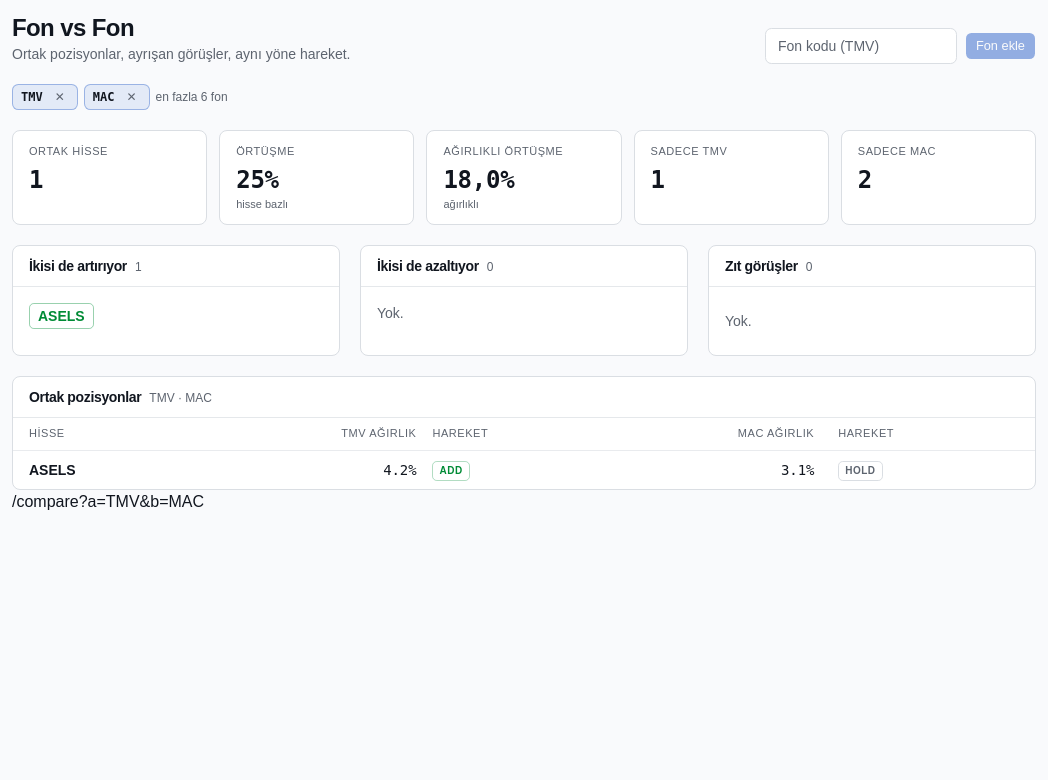
Test: ComparePage › adding a fund by code extends the URL set and switches to the overlap query; removing one goes back to the pair
This screenshot has width=1048, height=780.
Expected: the heading "Ortak pozisyonlar" is shown, [29,387,141,407]
Type "abc" into the dropdown named "Fon ekle".
click(861, 46); type("abc")  # box [765,28,957,64]
Then press Enter
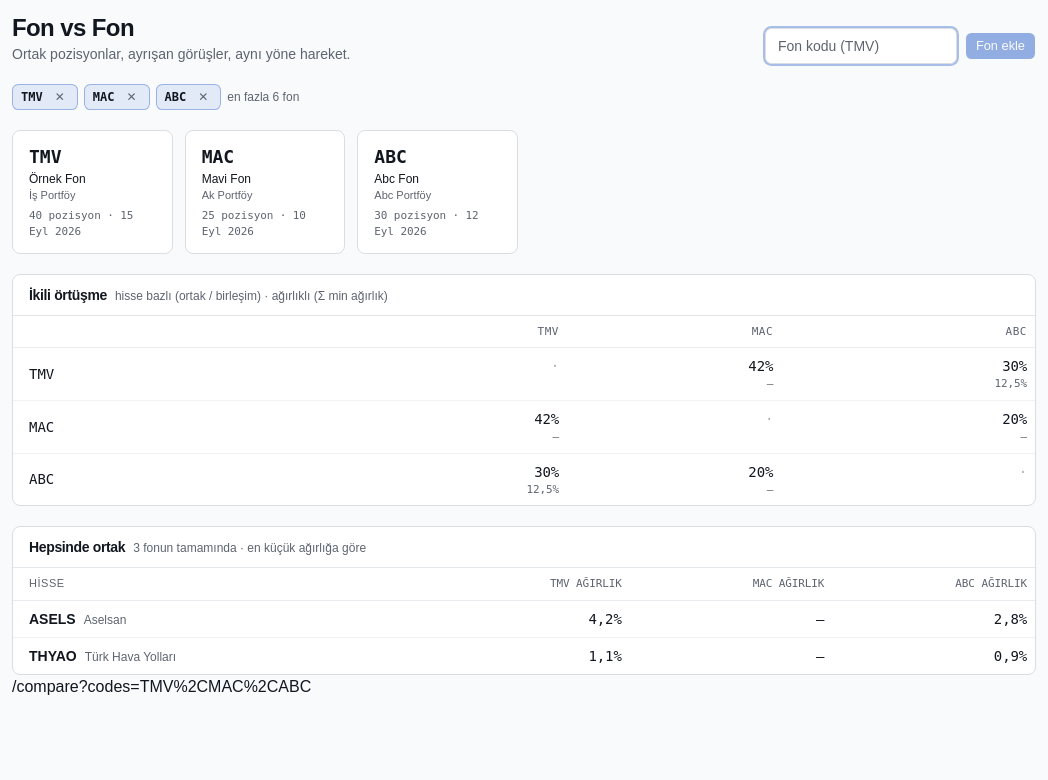
Now the text with test id "where" reads "/compare?codes=TMV%2CMAC%2CABC", box [12,678,311,695]
Now the heading "İkili örtüşme" is shown, box [29,284,107,304]
Click the button named "ABC fonunu kaldır".
click(203, 97)  # box [194,89,212,105]
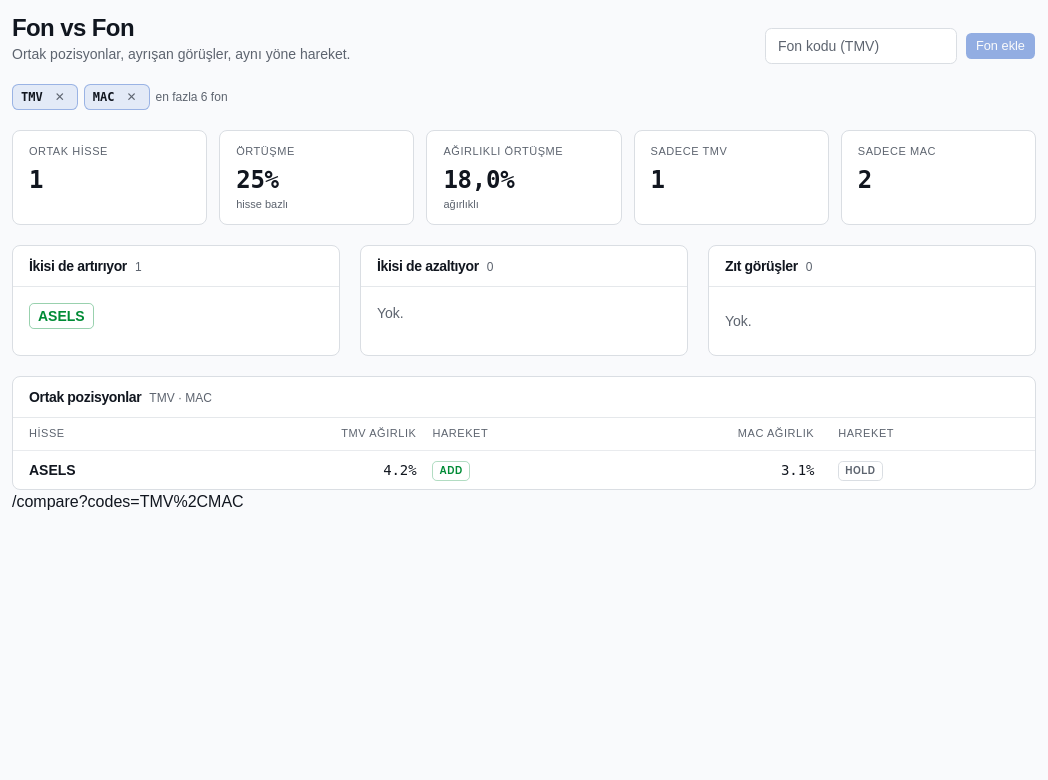
Now the text with test id "where" reads "/compare?codes=TMV%2CMAC", box [12,493,244,510]
Now the heading "Ortak pozisyonlar" is shown, box [29,387,141,407]
